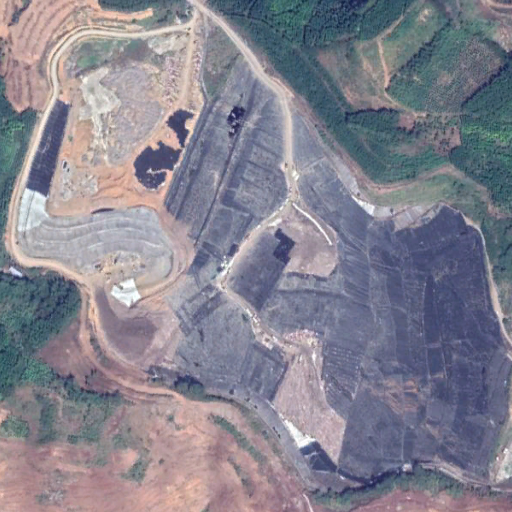lf: (12, 18, 512, 489)
